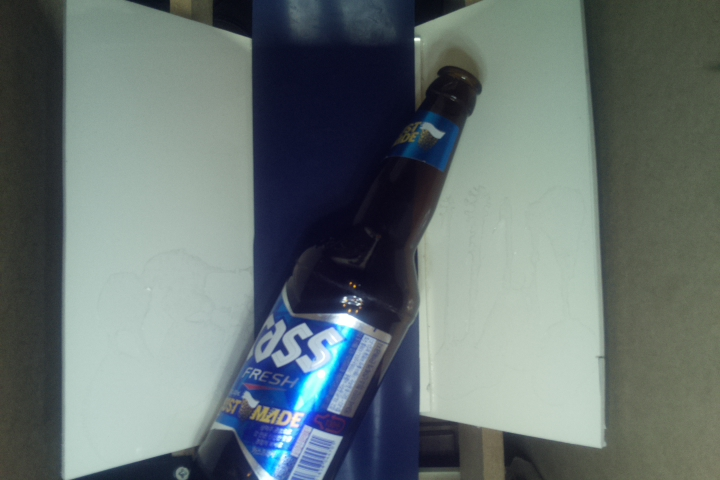makju: (192, 65, 482, 480)
